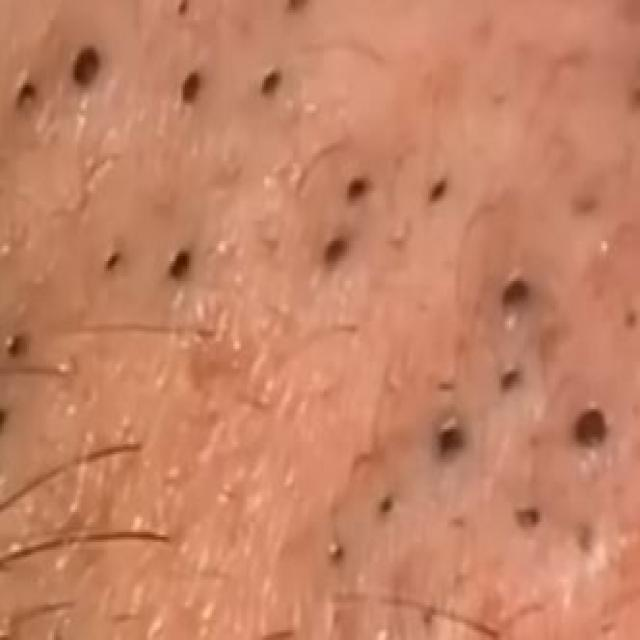dark spot: (564, 386, 624, 467), (58, 42, 118, 98), (486, 348, 536, 408), (333, 163, 382, 215), (156, 238, 198, 295), (253, 55, 291, 113), (173, 52, 209, 111), (424, 413, 468, 458), (422, 164, 460, 210), (499, 267, 534, 315), (321, 234, 357, 275)
